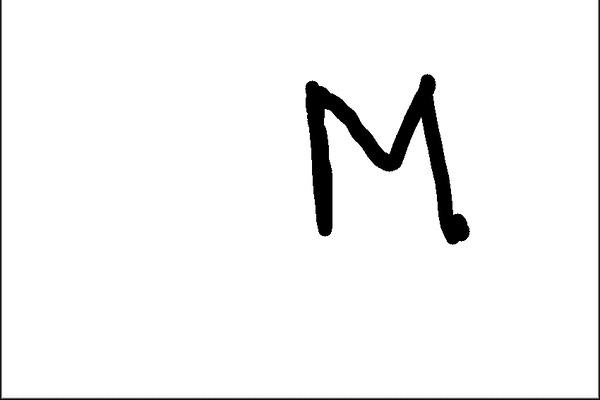M: (302, 69, 471, 246)
